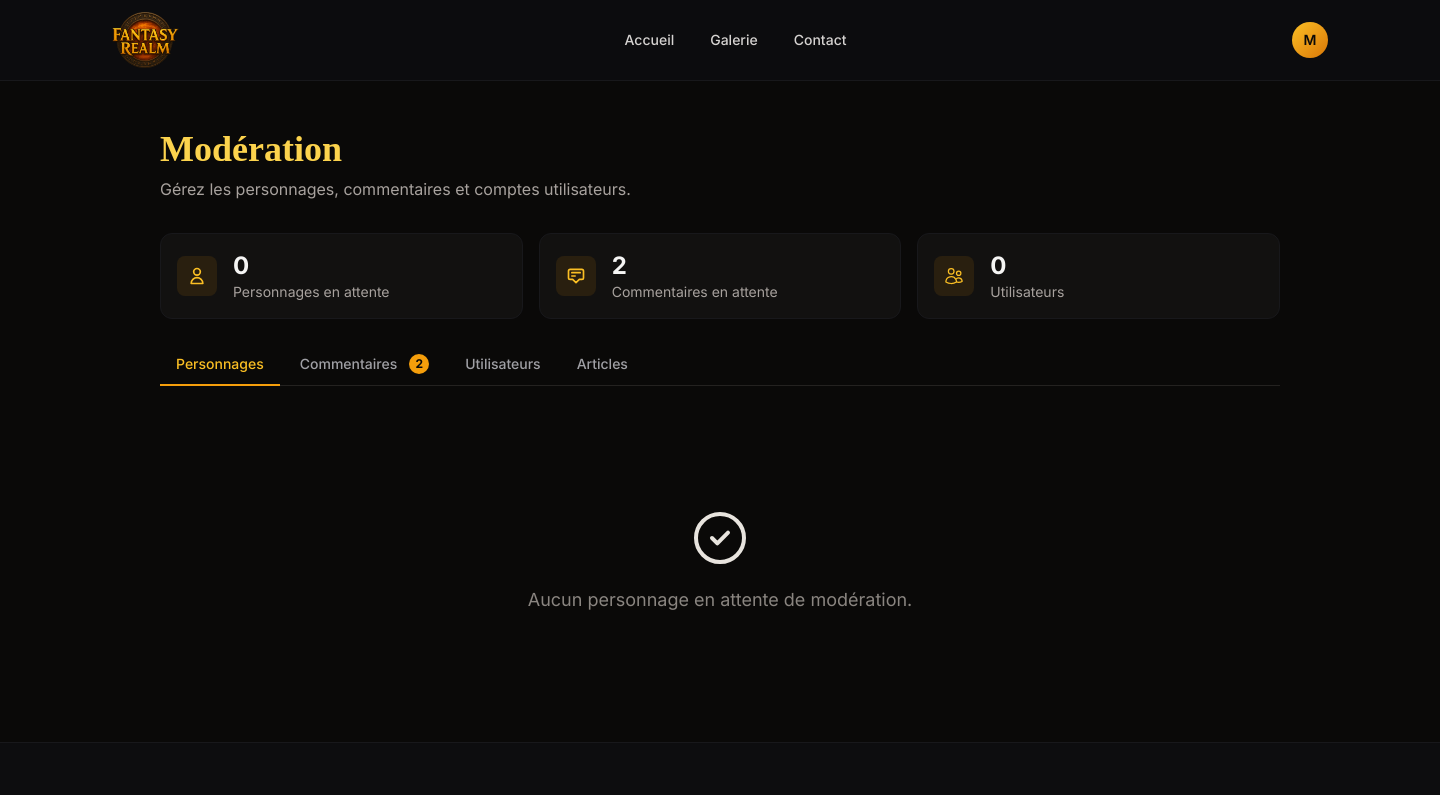
ModerationPage › comments tab › should display pending comments after switching tab
Click the tab "Commentaires 2" at (365, 364), box [284,343,445,386]
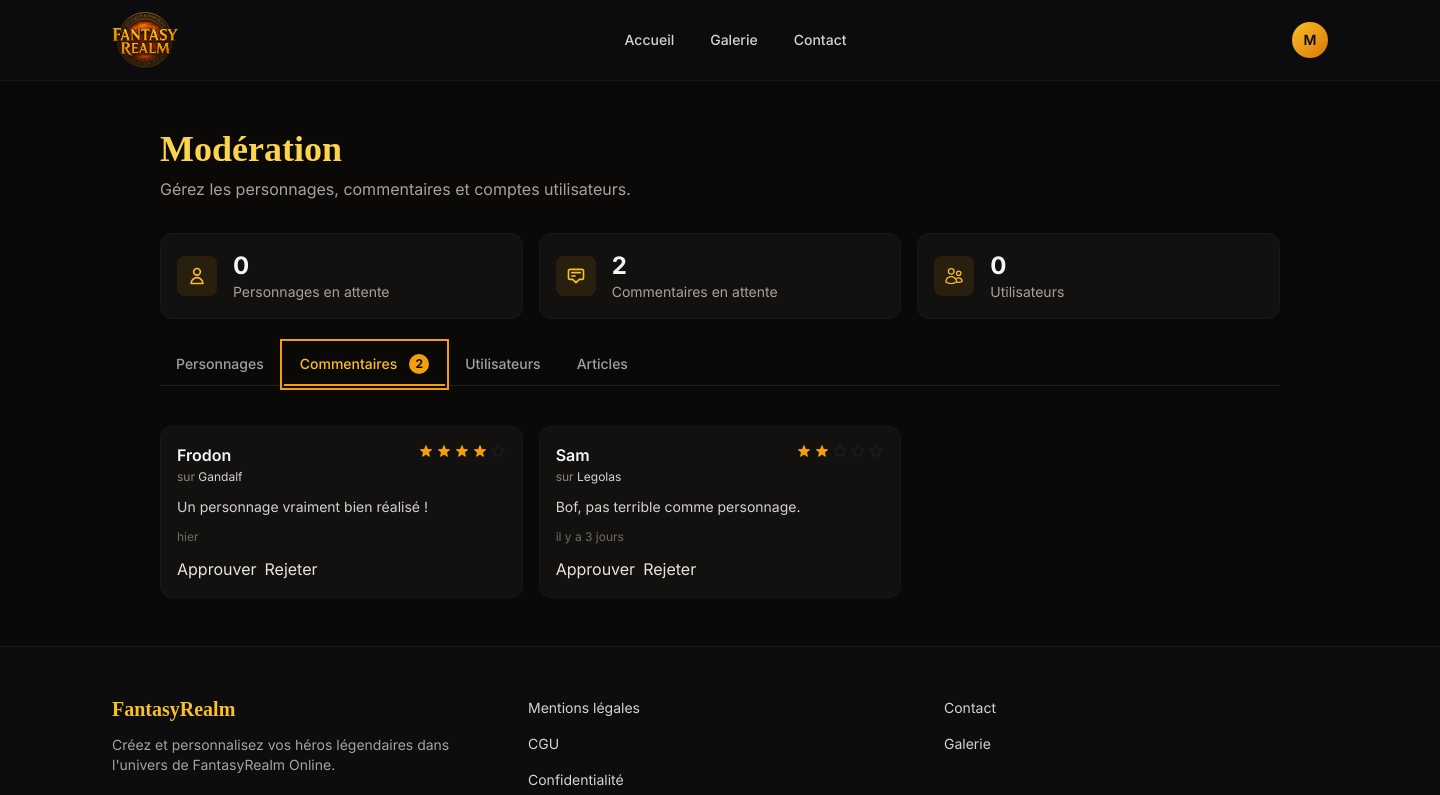
Result: the text "Frodon" is shown at [177,445,231,465]
Result: the text "Sam" is shown at [556,445,590,465]
Result: the text "Gandalf" is shown at [198,469,242,484]
